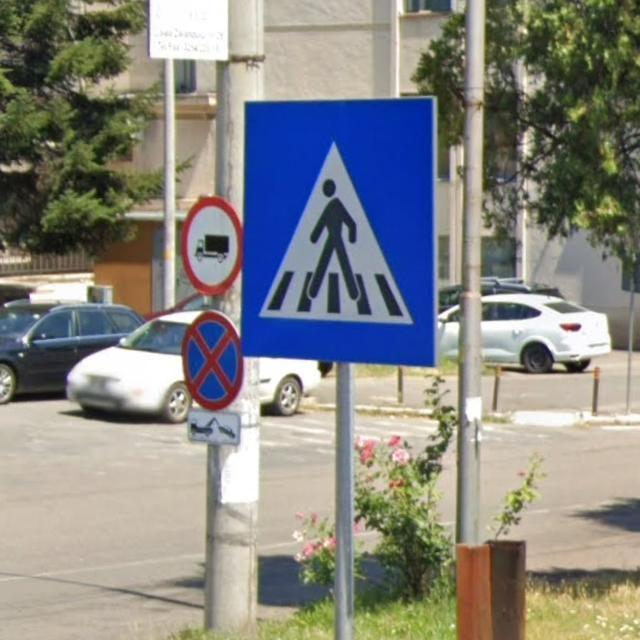forb_waiting: (181, 311, 245, 410)
info_crosswalk: (240, 95, 438, 365)
